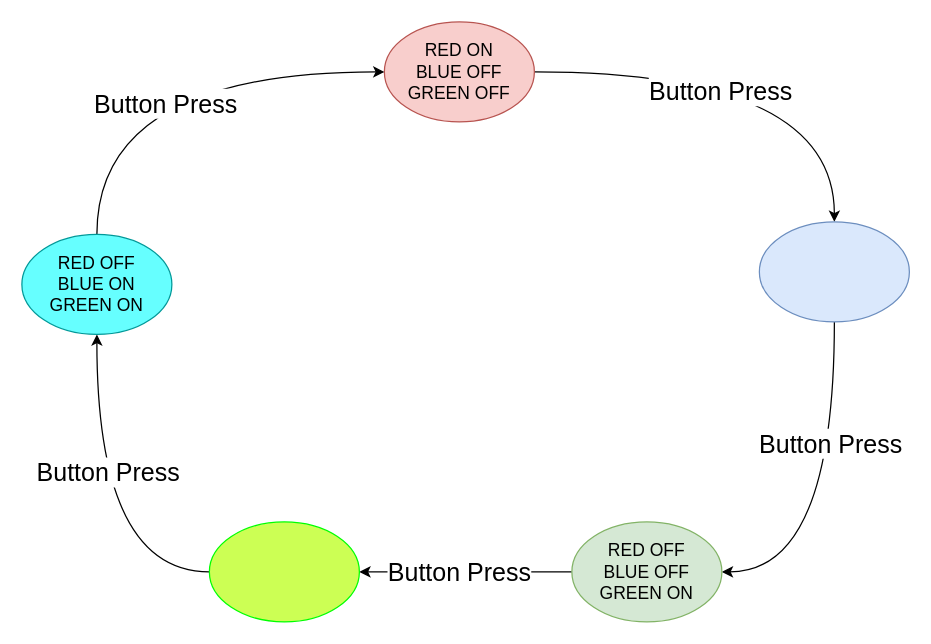
Image size: 931x644. Some labels were removed from this diagram. The box of each missing label's shape, as (x1, y1, x2, y2) in pixels:
RED OFF BLUE ON GREEN OFF: (758, 221, 909, 322)
RED ON BLUE OFF GREEN ON: (208, 521, 359, 622)
